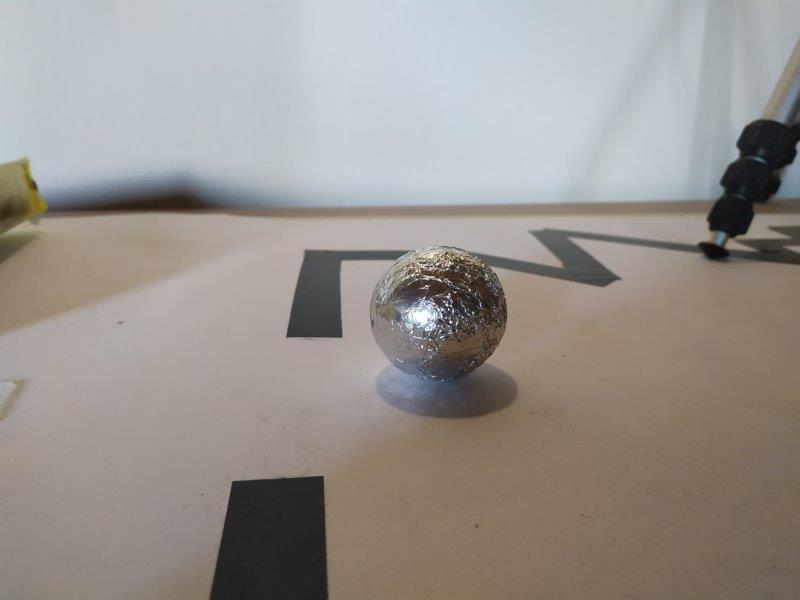bianca: (368, 244, 511, 385)
